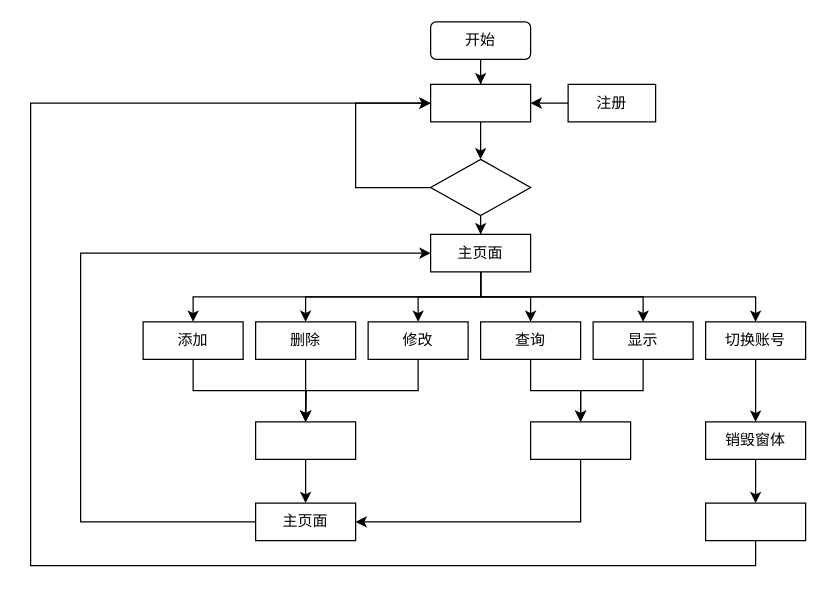
The diagram is 828 pixels wide and 598 high, and some of its shapes have lost their labels. The shapes that lost their labels are listed below. From the top down, each one's centre as x and y in pixels, then its label:
At (x=480, y=102): "登录".
At (x=480, y=187): "校验信息".
At (x=305, y=440): "刷新表格".
At (x=580, y=440): "获取数据".
At (x=755, y=521): "重现登录窗体".
